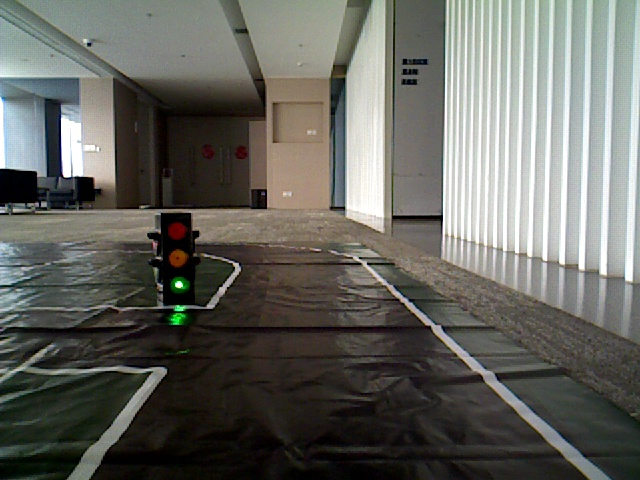green: (164, 216, 195, 292)
